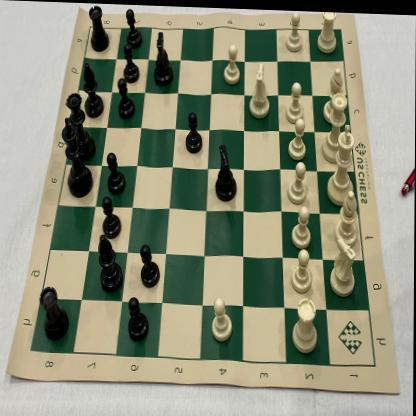black-bishop: (38, 286, 70, 340), (98, 234, 124, 292), (84, 62, 104, 119), (88, 4, 109, 51)
black-king: (62, 116, 93, 198)
black-knight: (214, 141, 238, 200), (153, 29, 174, 86)
black-pawn: (139, 242, 161, 288), (127, 295, 148, 341), (105, 149, 126, 195), (101, 197, 123, 240), (184, 108, 204, 151), (117, 76, 135, 119), (122, 42, 140, 83), (126, 6, 142, 46)
black-queen: (65, 91, 95, 162)
white-bishop: (335, 188, 360, 246), (322, 64, 344, 122)
white-king: (327, 121, 355, 205)
white-knight: (328, 235, 360, 294), (249, 59, 270, 117)
white-pawn: (290, 204, 315, 249), (290, 248, 315, 292), (286, 158, 311, 202), (211, 297, 233, 344), (285, 78, 305, 122), (288, 116, 308, 158), (286, 9, 304, 52), (223, 42, 241, 85)
white-queen: (322, 88, 349, 162)
white-rook: (292, 296, 318, 352), (317, 9, 338, 52)
